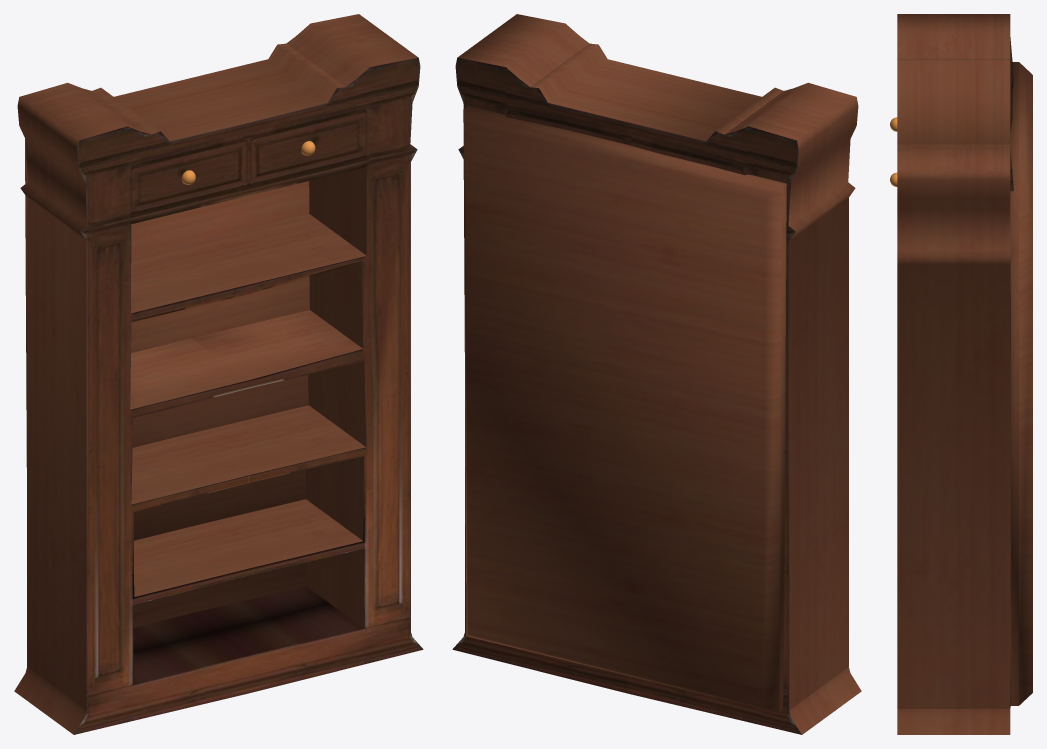
The model's file is low_poly_bookshelf.glb.
The picture shows the model from 3 angles, left to right: view 1: azimuth 30°, elevation 25°; view 2: azimuth 150°, elevation 25°; view 3: azimuth 270°, elevation 25°; orthographic projection. The views are drawn at different scales.
Visible parts, largest first — view 1: Sphere; view 2: Sphere; view 3: Sphere.
Boxes of the visible parts, box(x1,y1,x2,y2) form: Sphere: box(14, 14, 423, 734); Sphere: box(452, 14, 861, 734); Sphere: box(890, 14, 1032, 734).
Size of the model in its own units: 0.5286 by 0.8612 by 0.1975.
3 materials, 2 textured.
